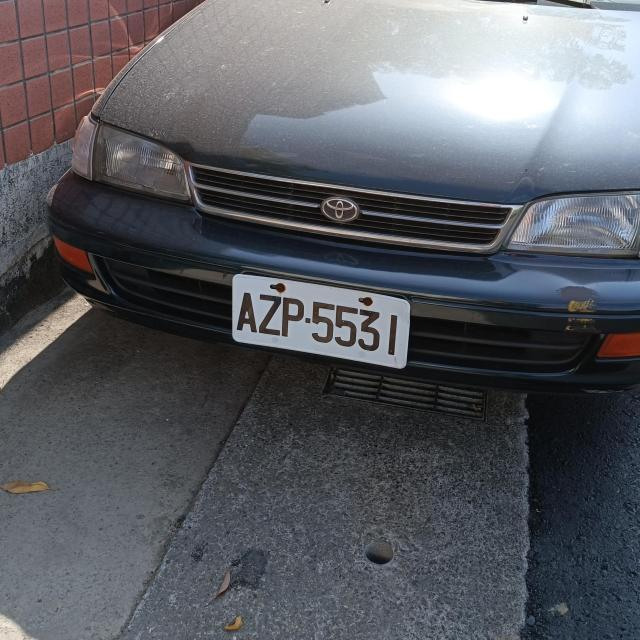W: (229, 270, 412, 367)
